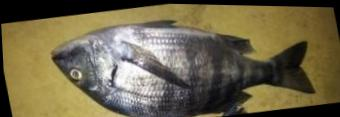fish: (49, 18, 316, 117)
